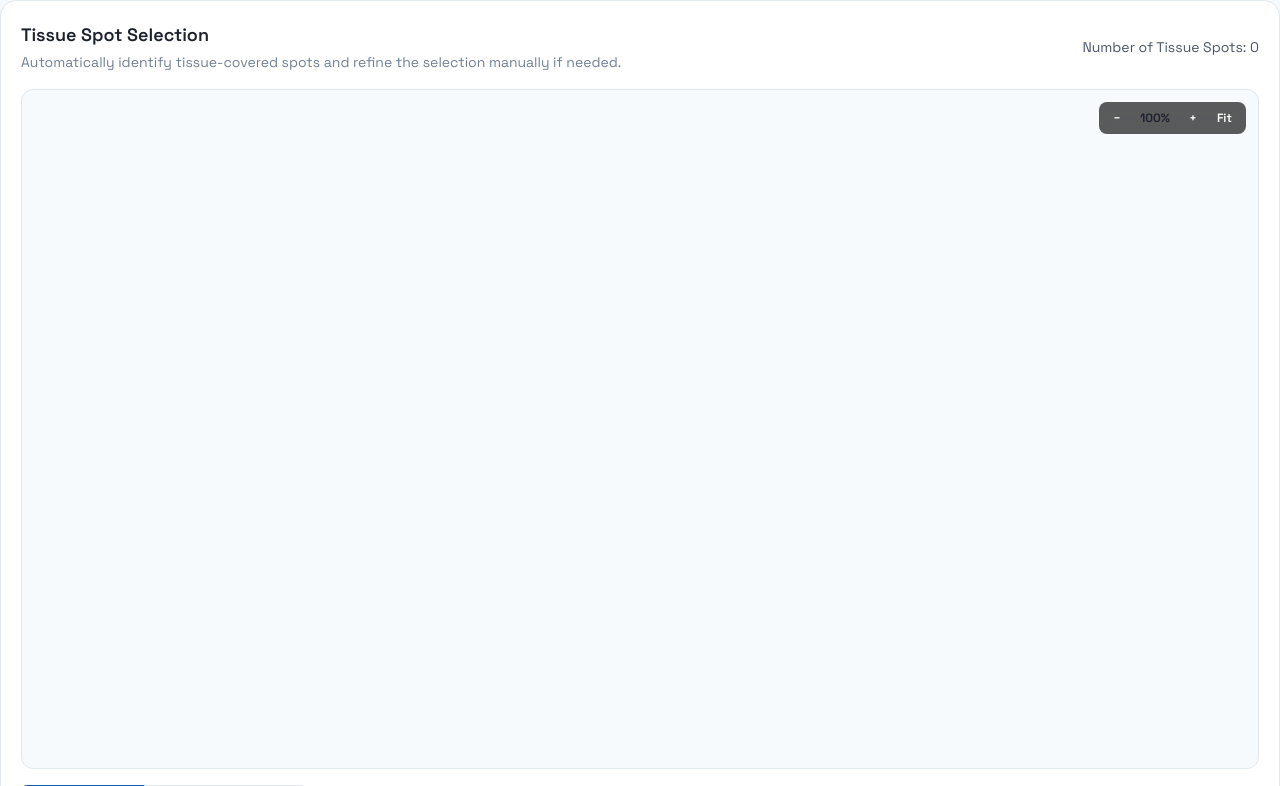
Test: TissueSelectionPanel pointer interaction › exposes zoom controls that update the visible zoom value
Expected: the text with test id "tissue-zoom-value" reads "100%", [1140, 110, 1170, 126]
Click the button with test id "tissue-zoom-in": (1193, 118) [1181, 106, 1205, 130]
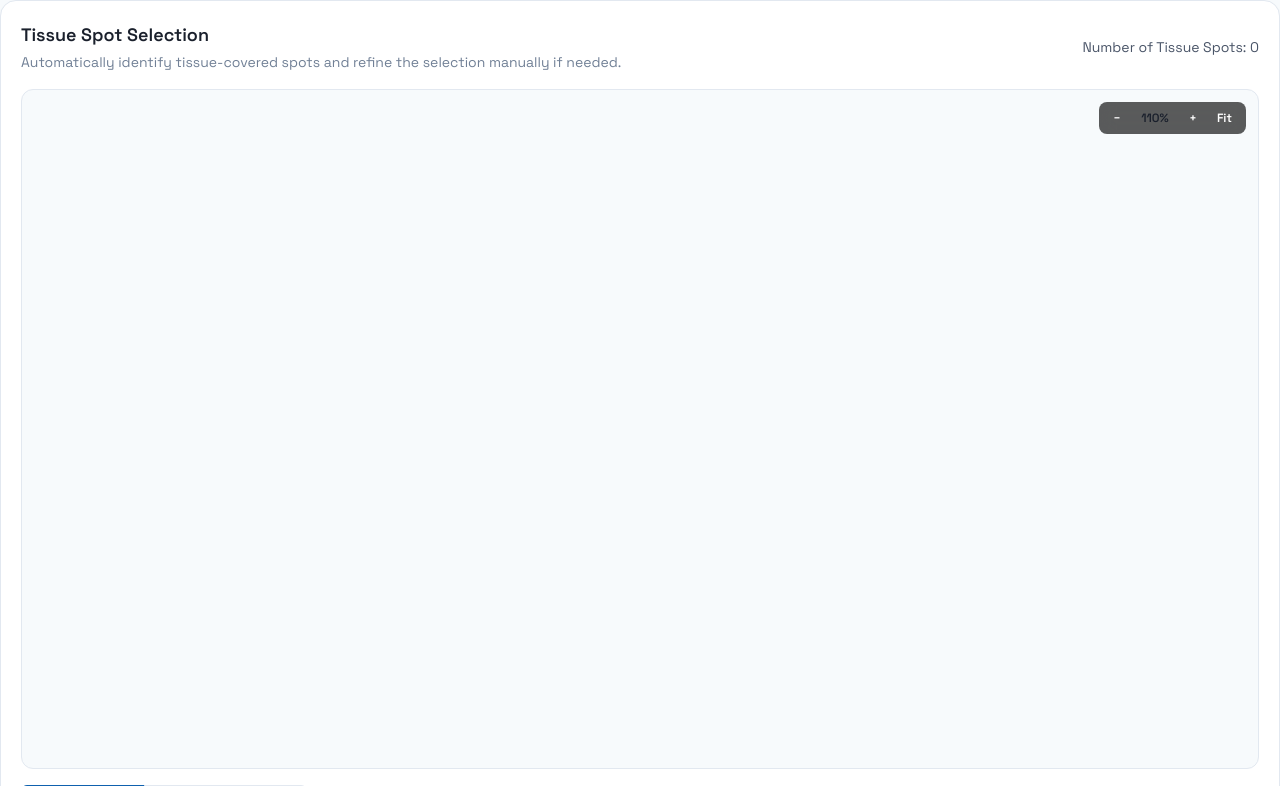
Now the text with test id "tissue-zoom-value" reads "110%", box [1141, 110, 1169, 126]
Click the button with test id "tissue-zoom-reset": (1224, 118) [1209, 106, 1240, 130]
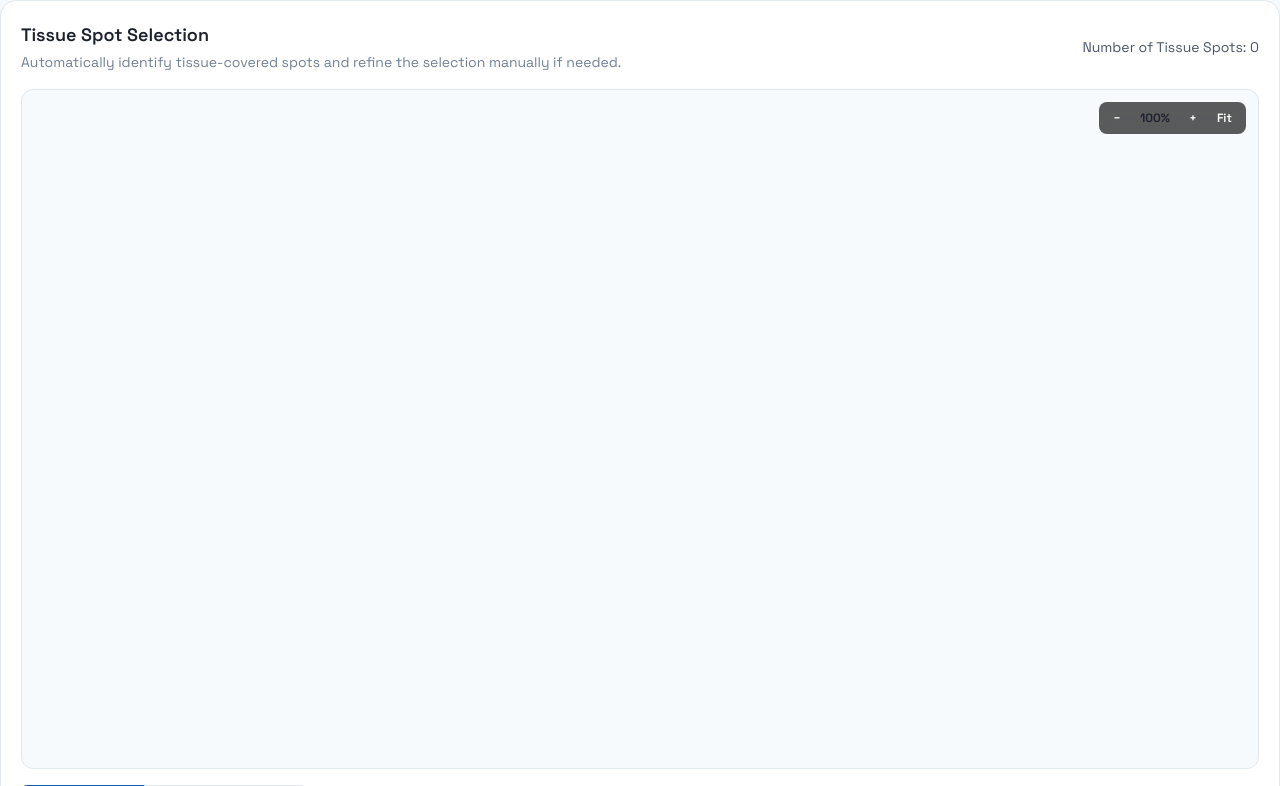
Now the text with test id "tissue-zoom-value" reads "100%", box [1140, 110, 1170, 126]
